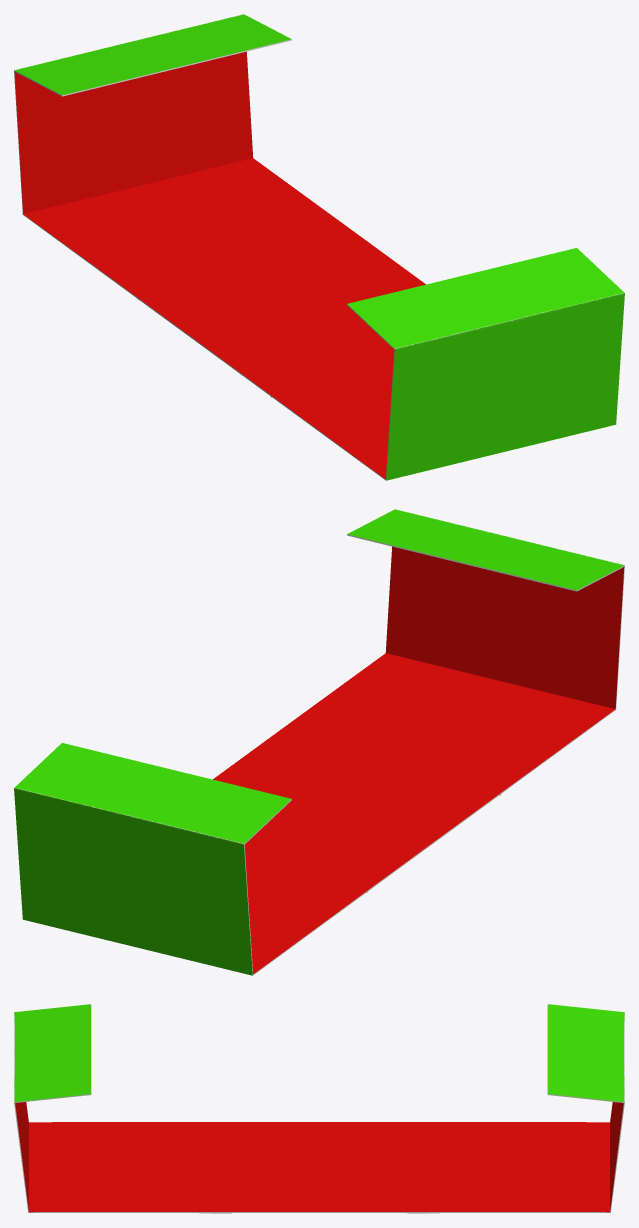
File: plano.gltf
3 renders of one model, top to bottom at view 1: azimuth 30°, elevation 25°; view 2: azimuth 150°, elevation 25°; view 3: azimuth 270°, elevation 25°, orthographic. The views are drawn at different scales.
Parts seen in each view (by area): view 1: Plane; view 2: Plane; view 3: Plane.
Part boxes in pixels (x1,y1,x2,y2): Plane: (14, 14, 624, 480); Plane: (14, 509, 624, 975); Plane: (14, 1004, 624, 1213).
Bounding box in the file's own units: 2 × 1.24 × 5.74.
